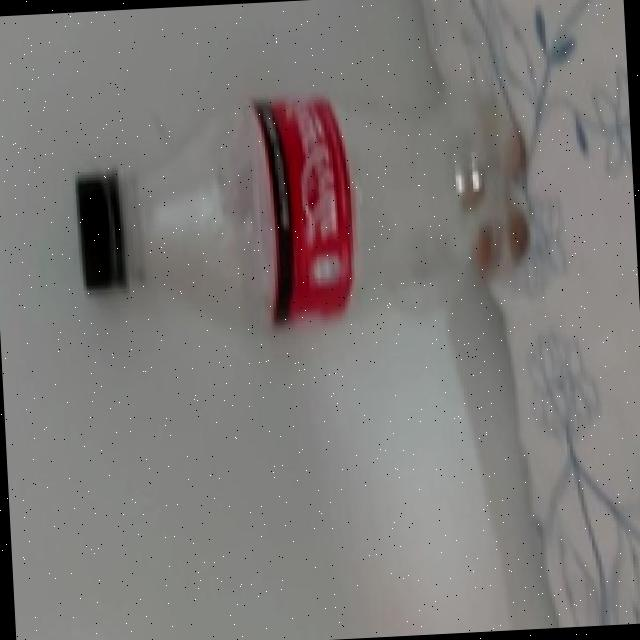bottle: (38, 53, 587, 364)
label: (237, 89, 353, 346)
